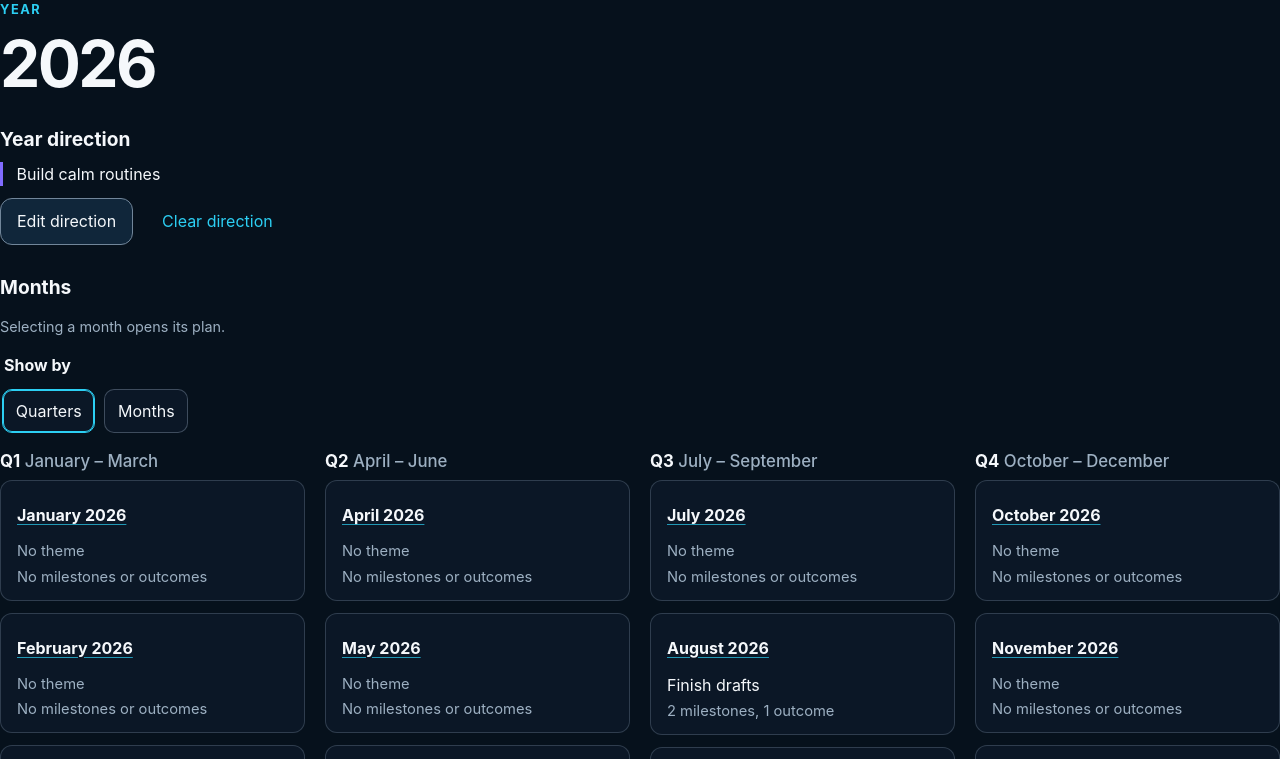
Test case: Year horizon › sets and clears the Year direction as plain text
The image size is (1280, 759).
Expected: the text "Build calm routines" is shown, [0,162,1279,186]
Click the button "Edit direction": x=67, y=221 [0,198,133,245]
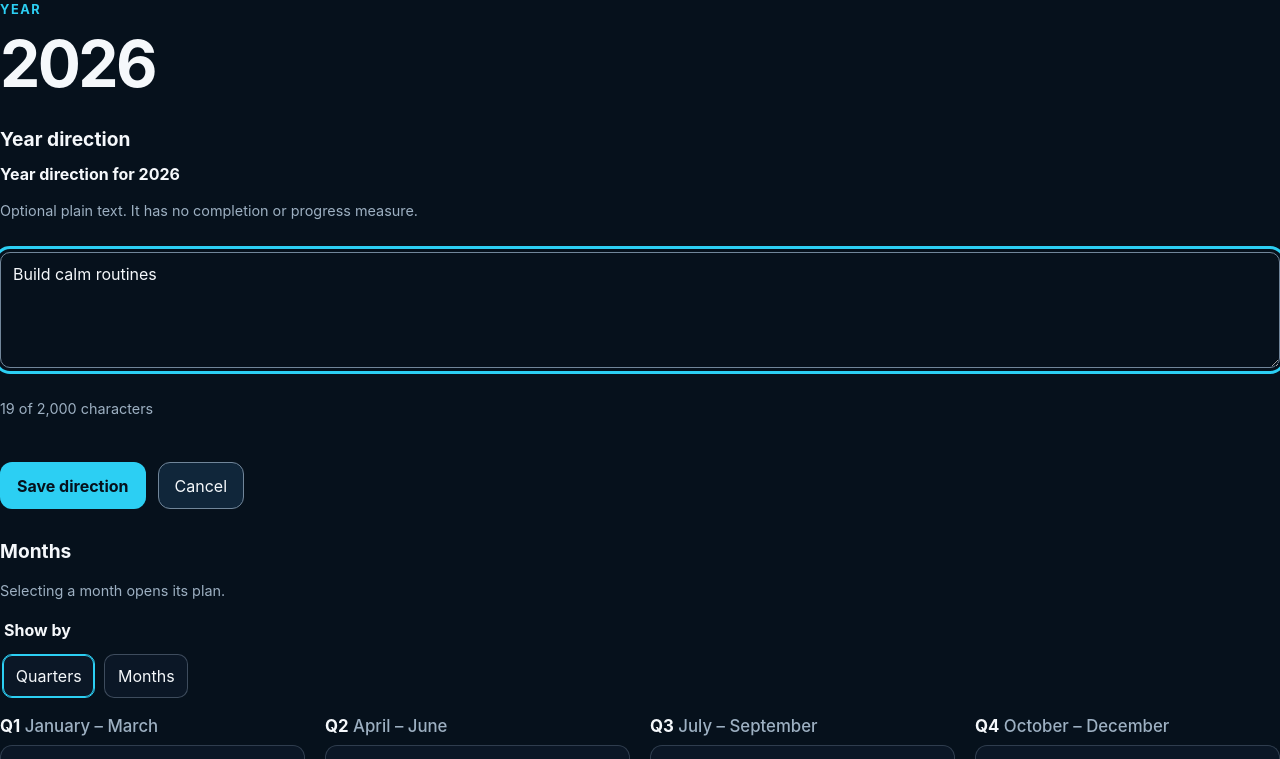
Result: the text box labelled "Year direction for 2026" holds "Build calm routines"
Replace the text in the text box labelled "Year direction for 2026" with "Write more, rush less": x=640, y=310 [0,252,1279,368]
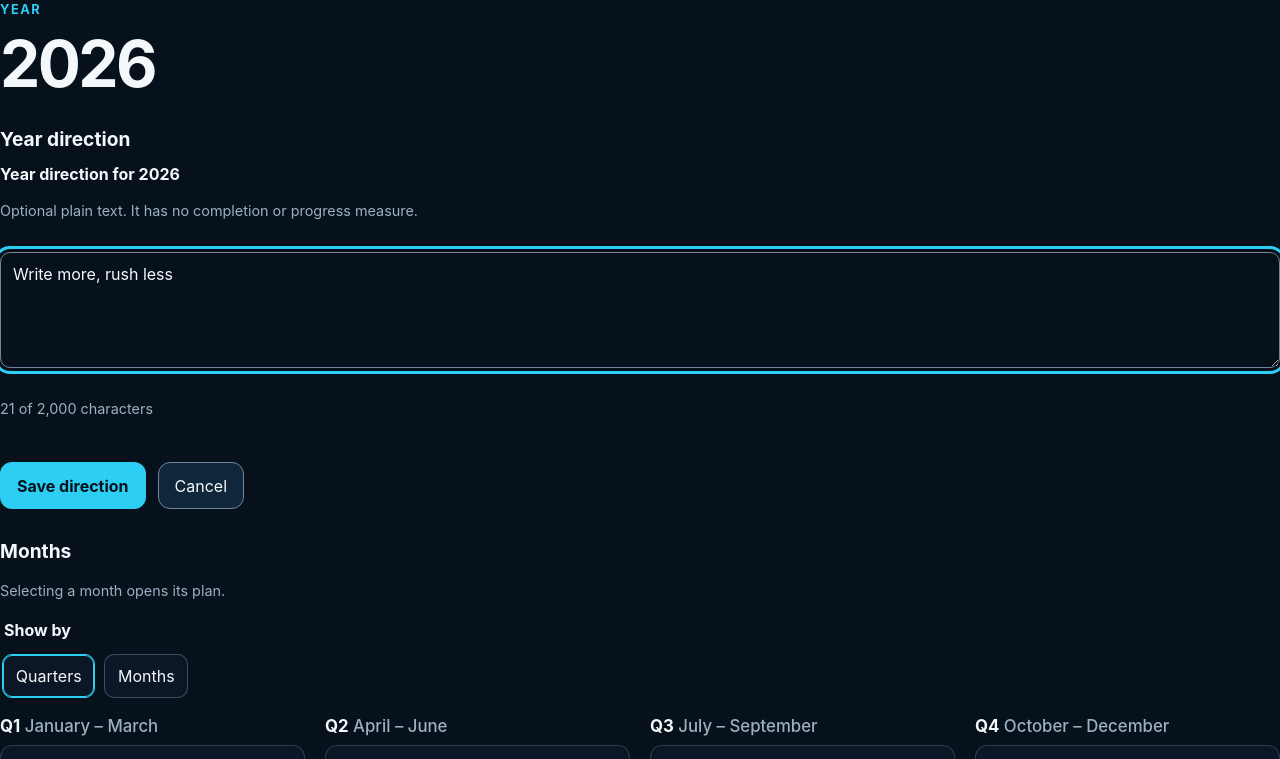
Click the button "Save direction": x=73, y=486 [0,462,146,509]
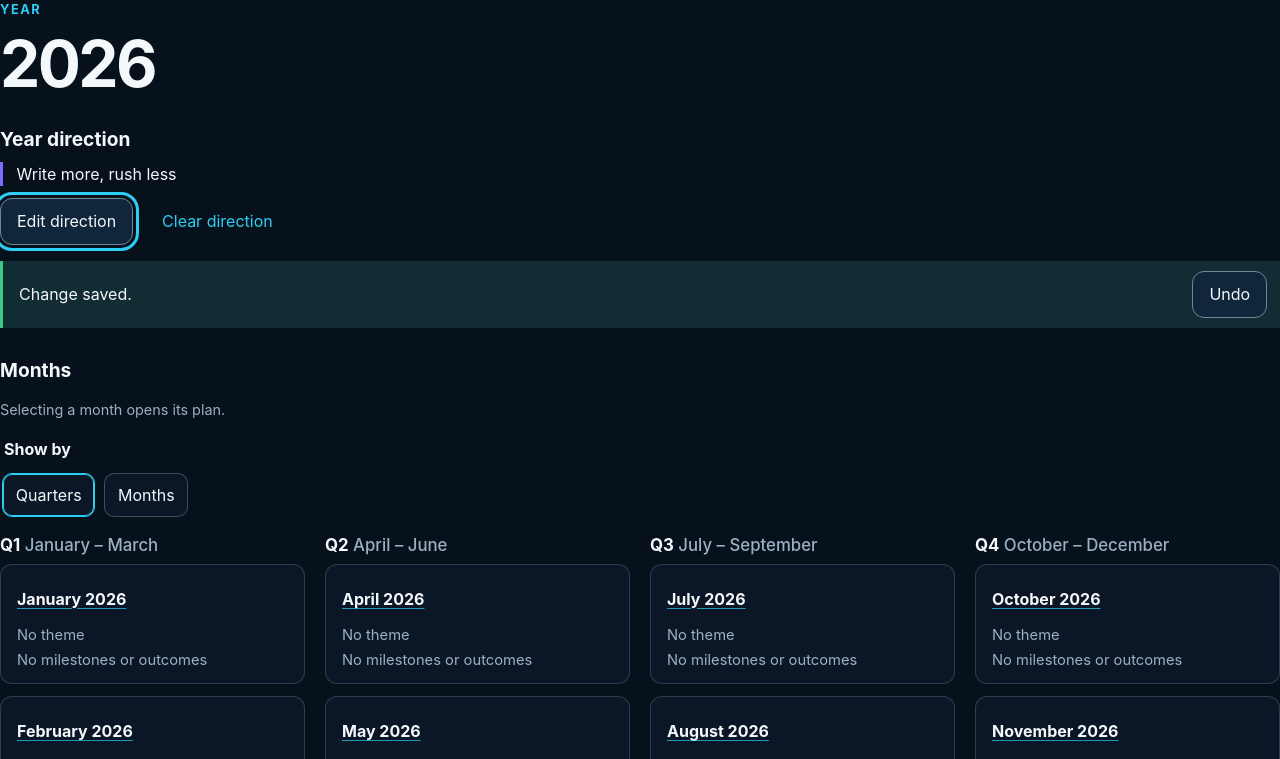
Result: the text "Write more, rush less" is shown at [0,162,1279,186]
Click the button "Clear direction": x=217, y=221 [145,198,290,245]
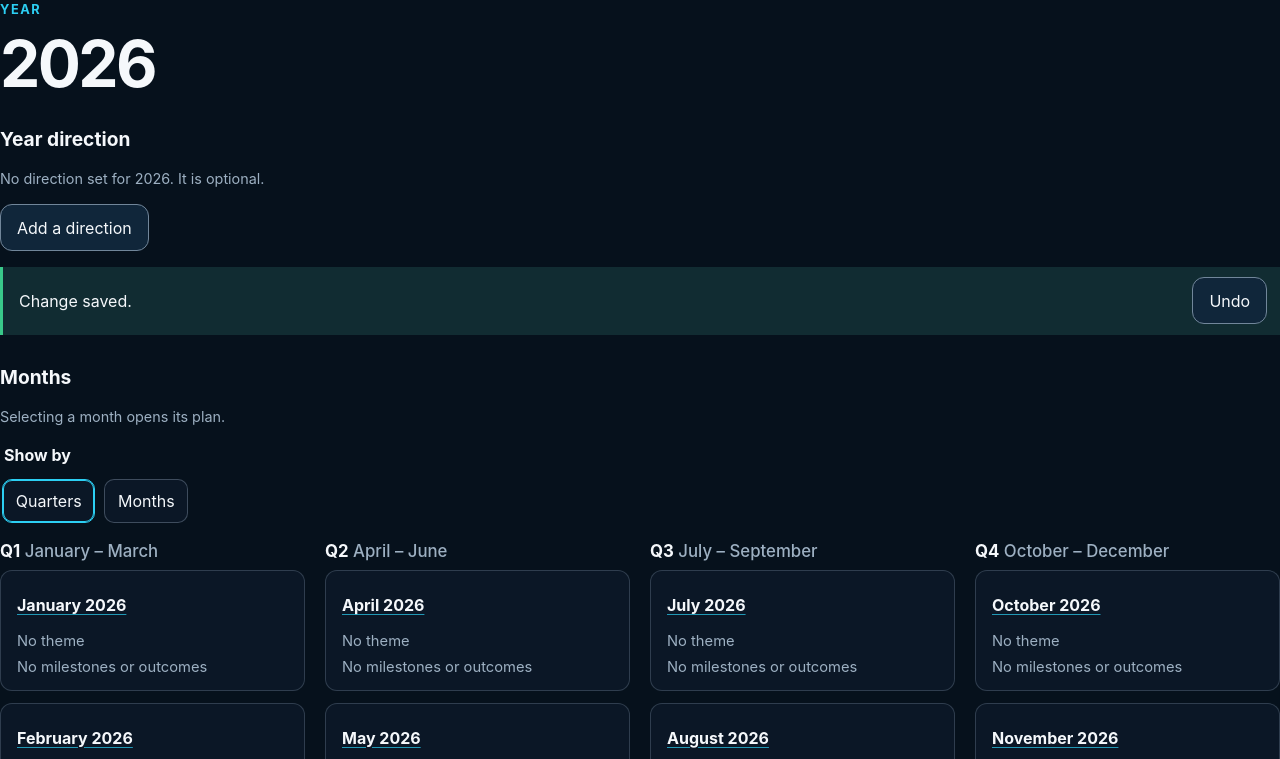
Result: the text "No direction set for 2026. It is optional." is shown at [0,170,264,187]
